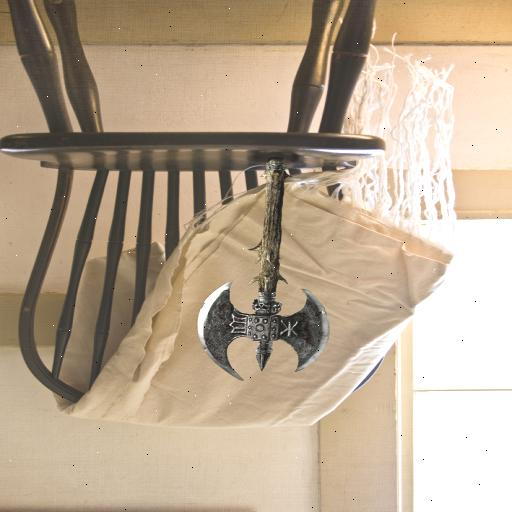Axe: (192, 157, 334, 383)
